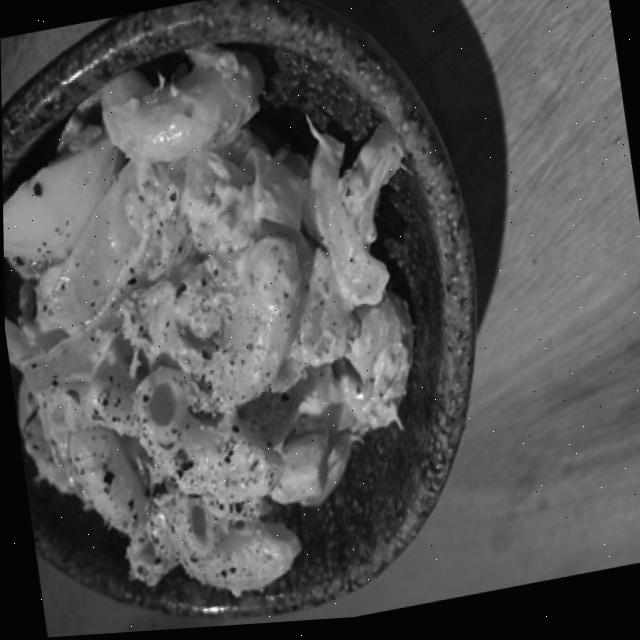蔬菜料理: (0, 0, 512, 640)
